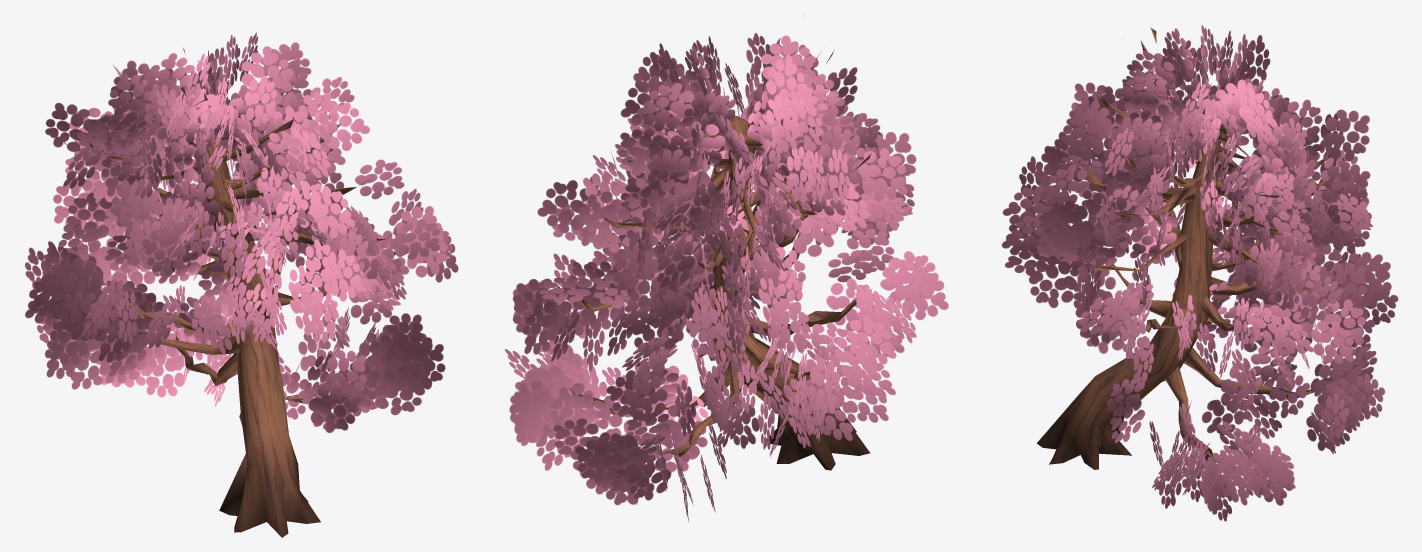
Rendered from tree-wedding-4-mature.glb.
3 renders of one model, left to right at view 1: azimuth 30°, elevation 25°; view 2: azimuth 150°, elevation 25°; view 3: azimuth 270°, elevation 25°, orthographic. The views are drawn at different scales.
Visible parts, largest first — view 1: CherryBlossom_4; view 2: CherryBlossom_4; view 3: CherryBlossom_4.
Part boxes in pixels (box(x1,y1,x2,y2)): CherryBlossom_4: box(25, 32, 458, 537); CherryBlossom_4: box(505, 14, 948, 521); CherryBlossom_4: box(1001, 25, 1398, 521).
Size of the model in its own units: 5.92 by 6.4 by 5.6.
Materials: 2 (2 with a texture image).
